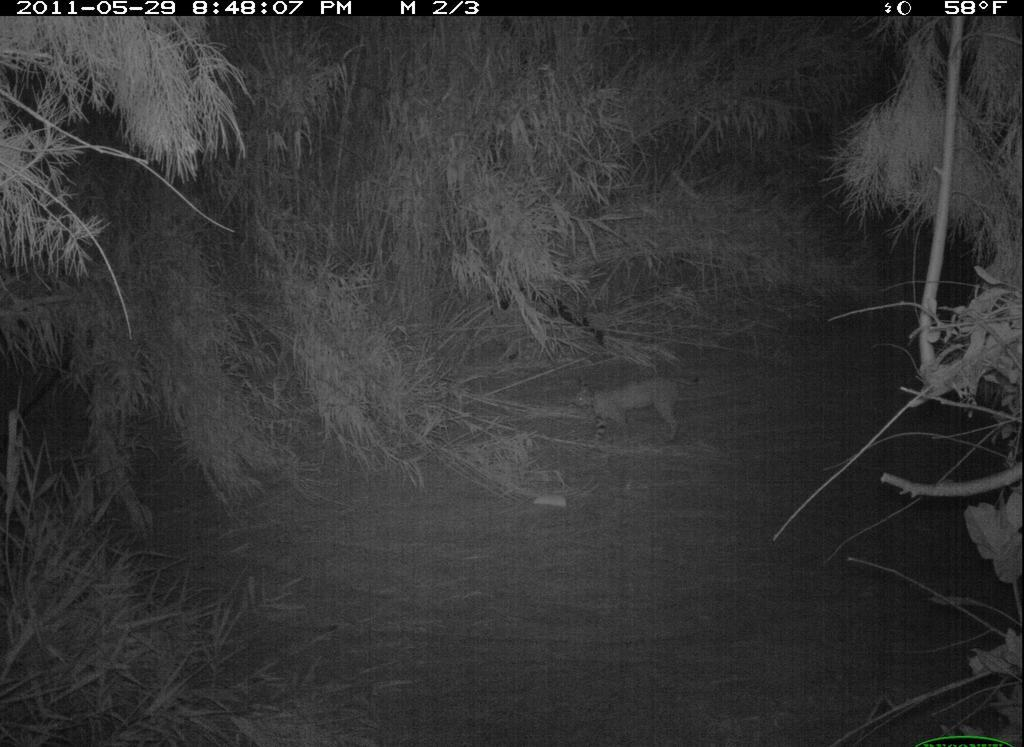bobcat: (573, 376, 700, 447)
